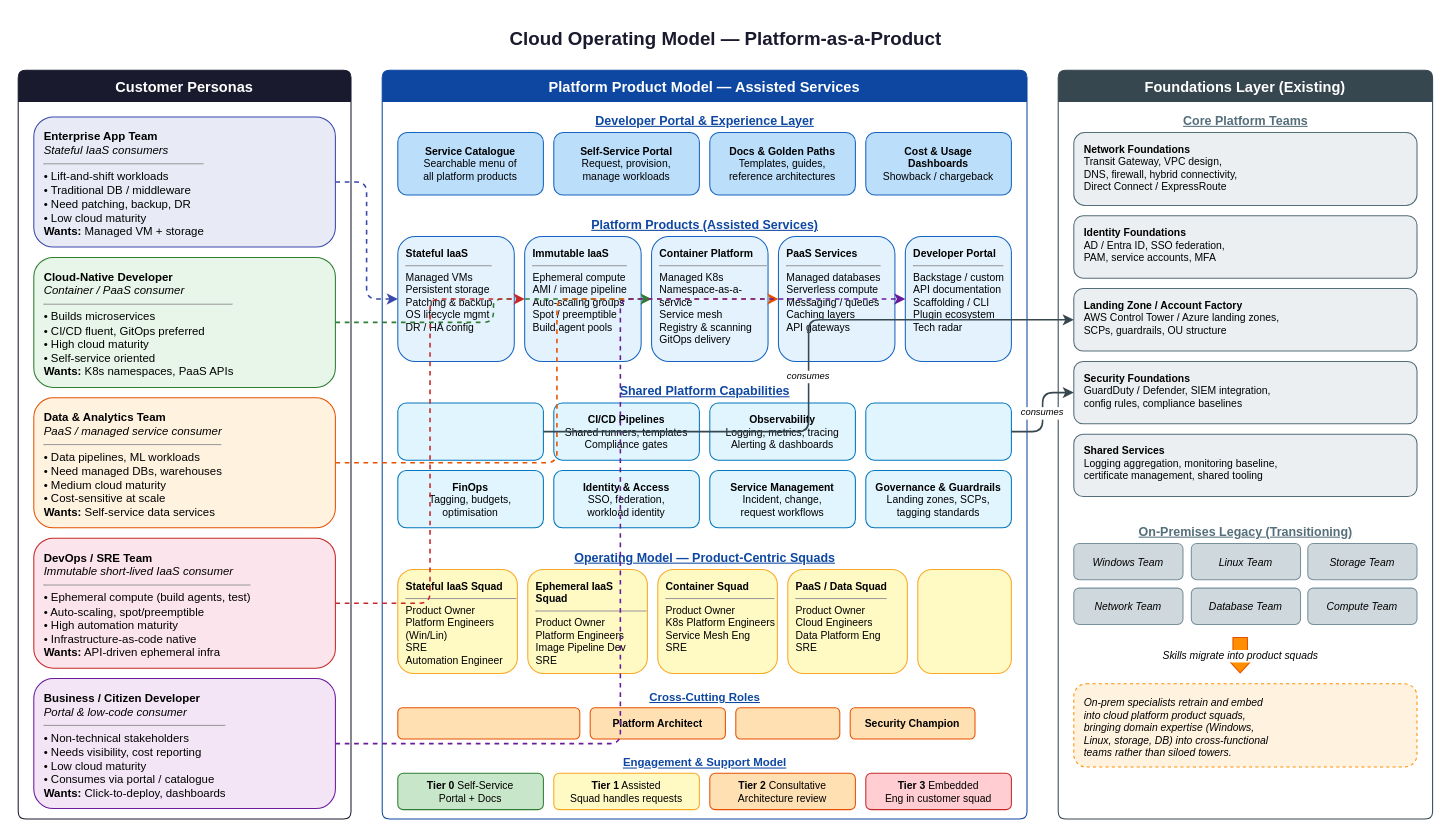
Some shapes in this 1451 by 837 pixel diagram are drawn without their labels. The shapes that lost their labels are listed below. From the top down, each one's centre as x and y in pixels, then its label:
At point (470, 431): "IaC & Automation Terraform modules Crossplane, Pulumi".
At point (938, 431): "Security & Compliance Policy-as-code, RBAC Secrets, scanning".
At point (964, 620): "DevEx / Portal Squad Product Owner Full-Stack Devs UX Designer Tech Writer".
At point (488, 723): "Head of Cloud Platform (GM)".
At point (787, 723): "FinOps Lead".
